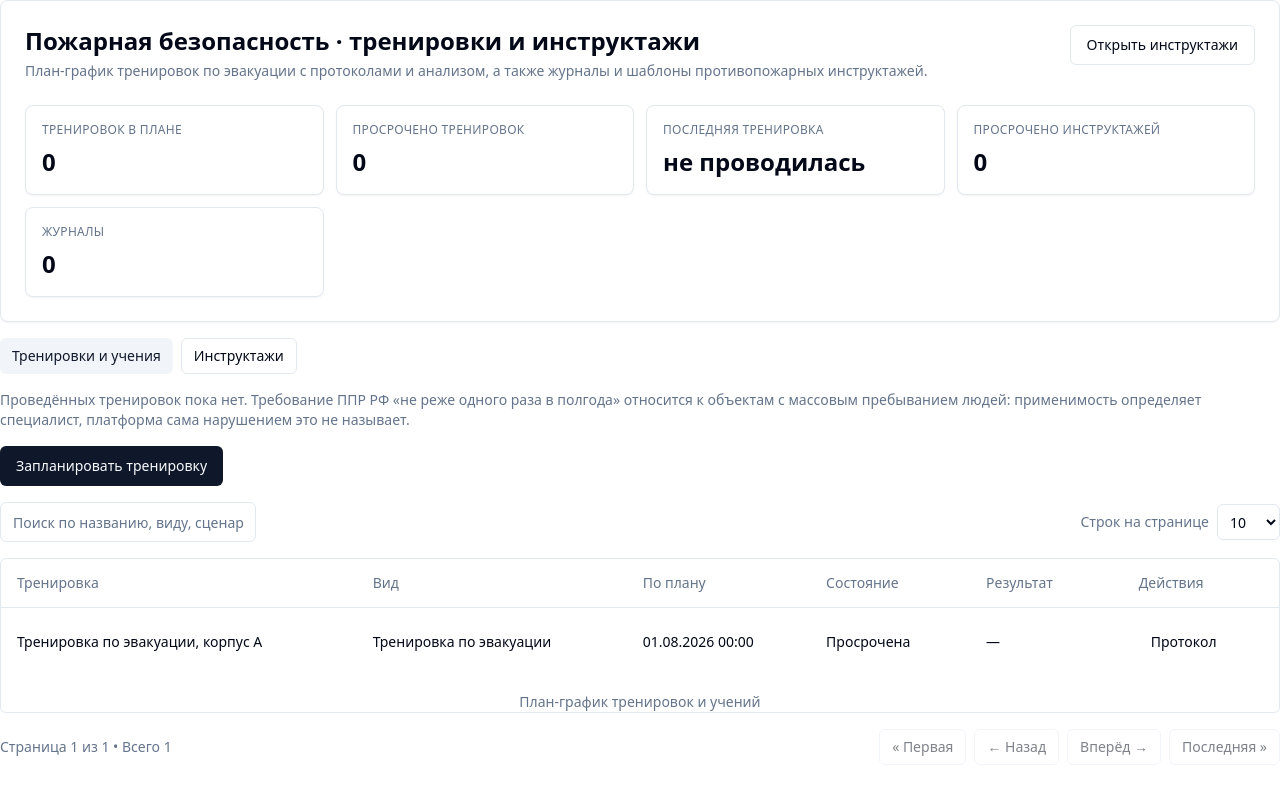
Test case: Inspection/fire next actions › тренировка планируется с экрана, а не только через API (срез-104)
Expected: the text "Тренировка по эвакуации, корпус А" is shown, [1,607,357,676]
Click the button "Запланировать тренировку" at [112, 466], box [0,446,223,486]
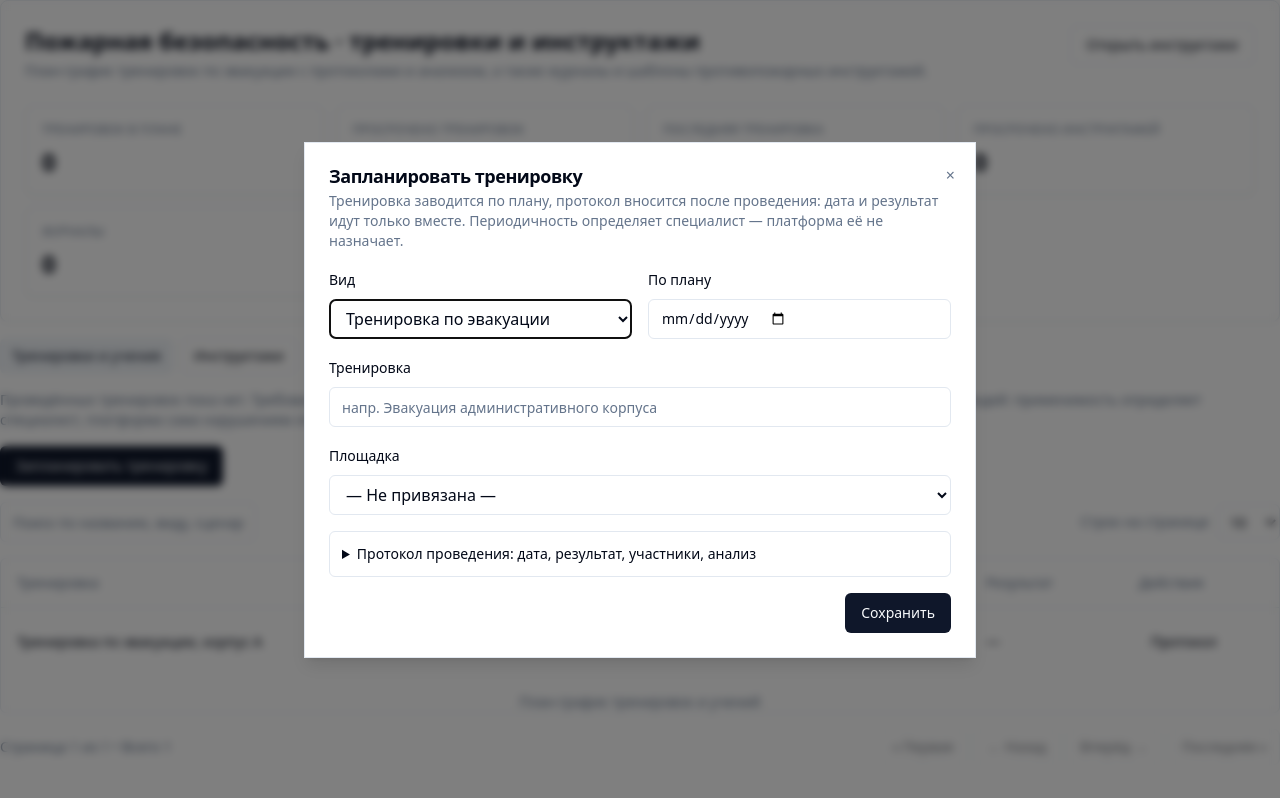
Select "Совместное учение с подразделениями пожарной охраны" in the dropdown labelled "Вид" at [480, 319], box [329,299,632,339]
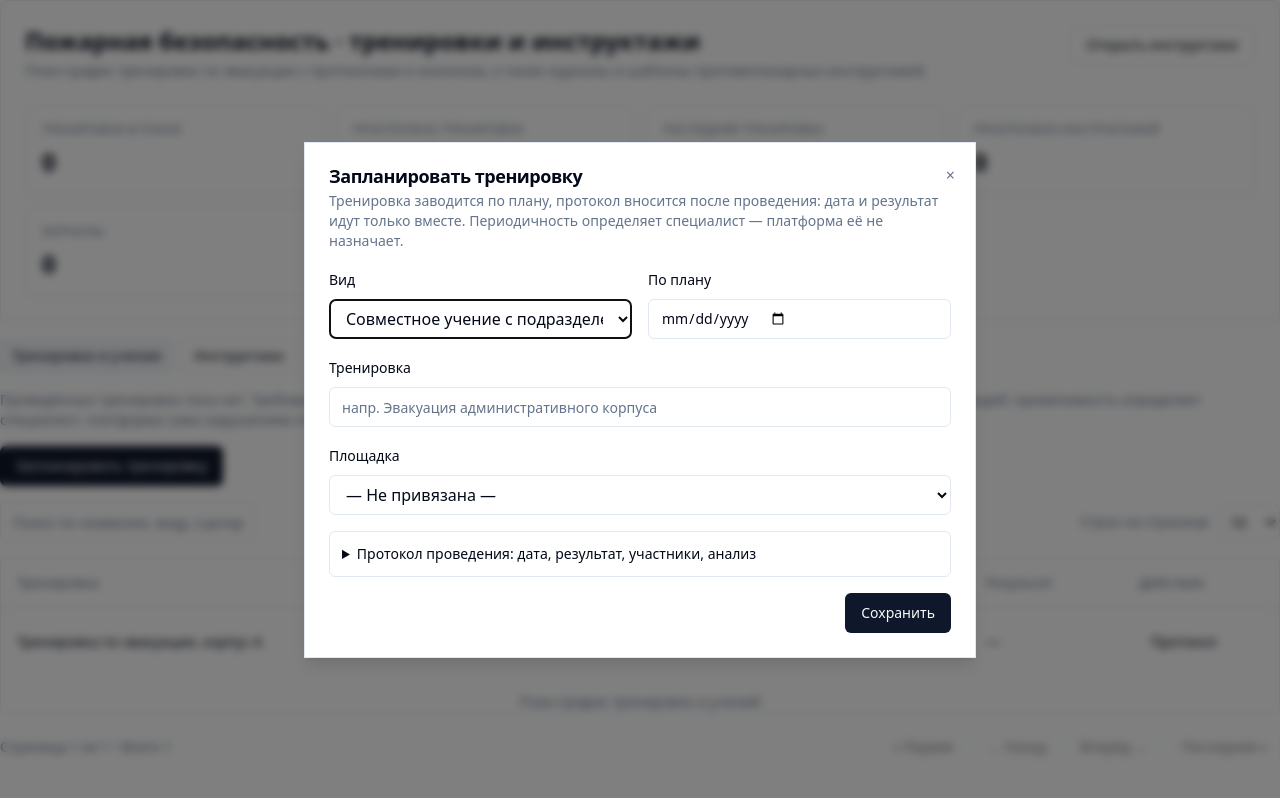
Type "Учение с пожарной охраной" into the field labelled "Тренировка" at [640, 407], box [329,387,951,427]
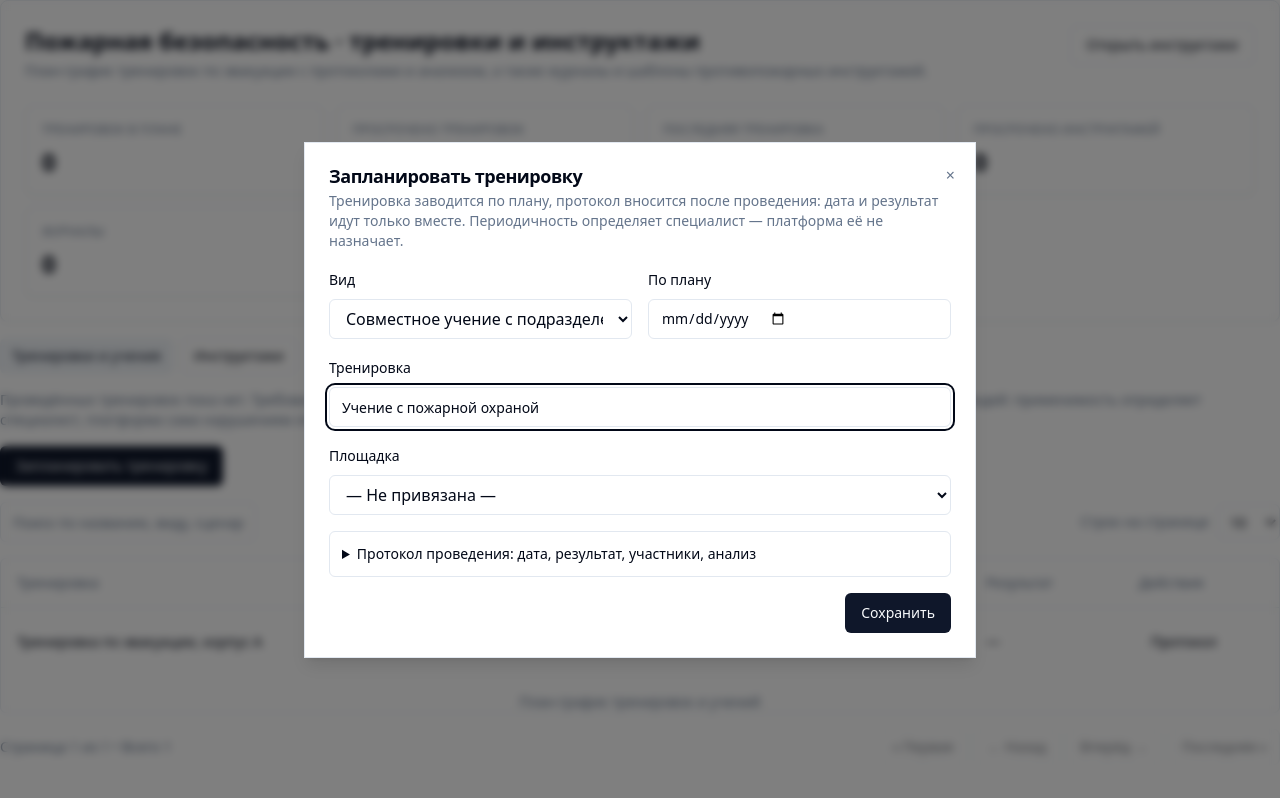
Type "2026-11-10" into the date field labelled "По плану" at [800, 319], box [648,299,951,339]
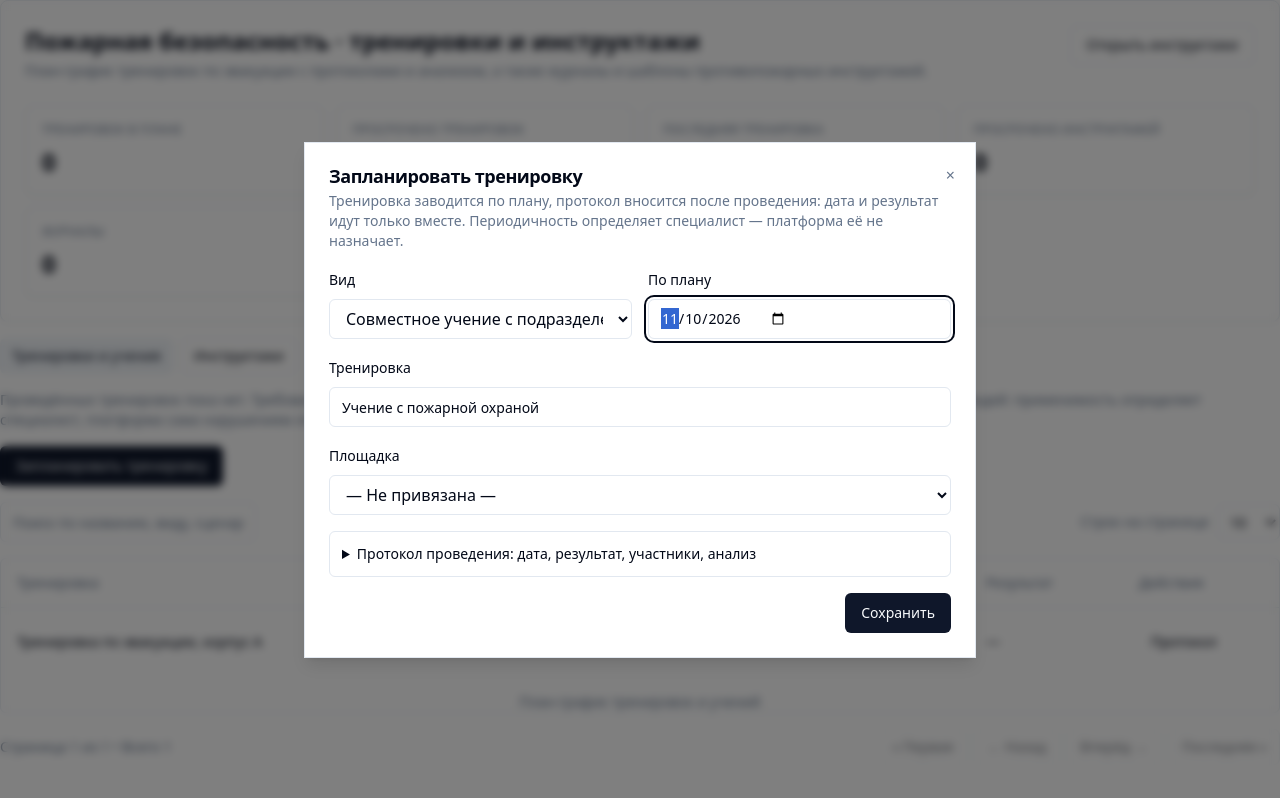
Select "Площадка №1" in the dropdown labelled "Площадка" at [640, 495], box [329,475,951,515]
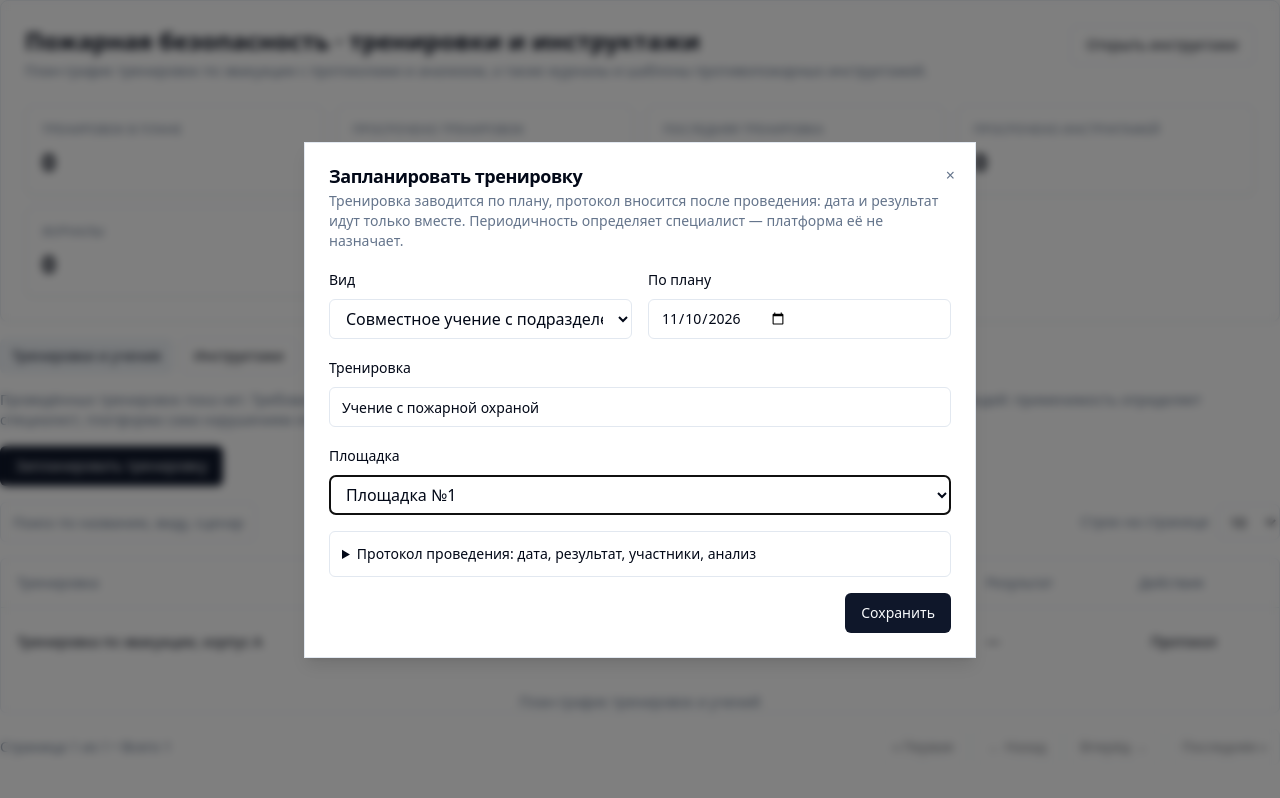
Click the button "Сохранить" at [898, 613], box [845,593,951,633]
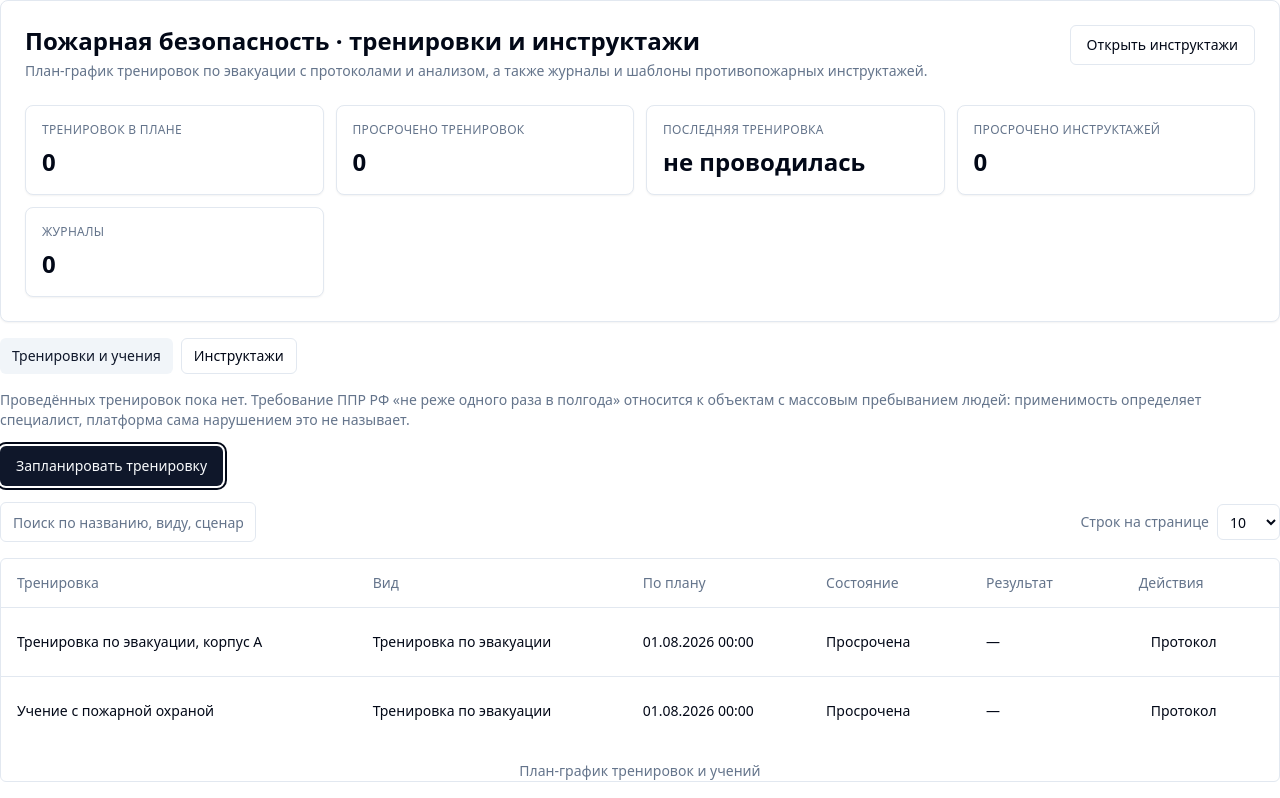
Expected: the text "Учение с пожарной охраной" is shown, [1,676,357,744]
